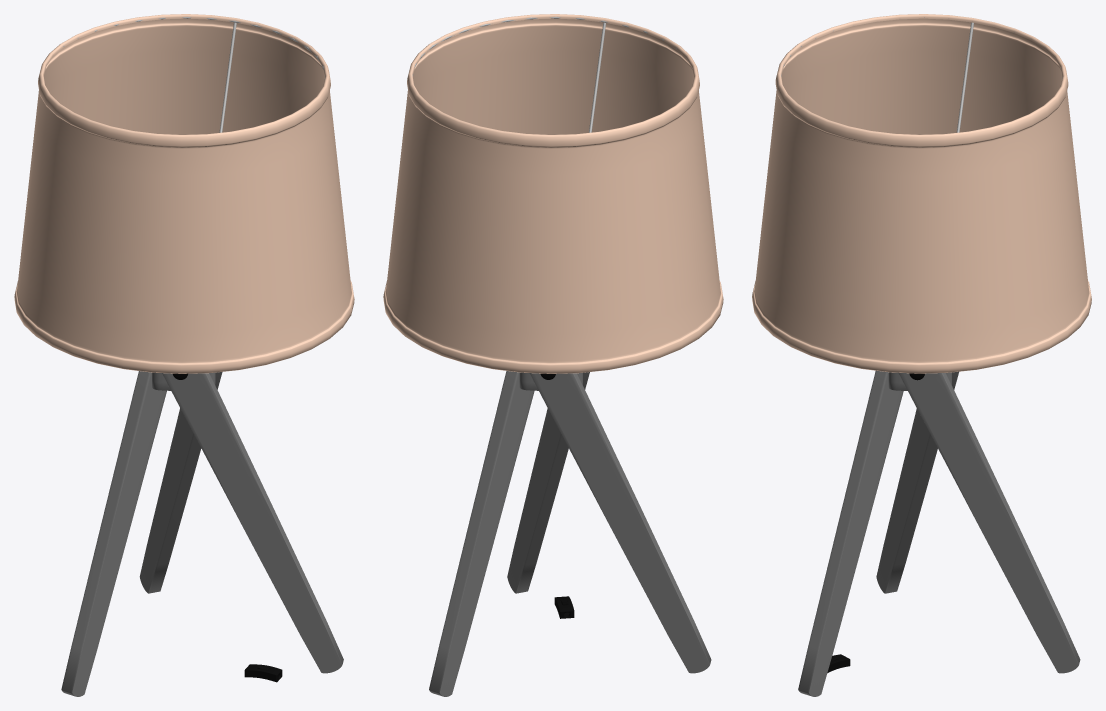
The picture shows the model from 3 angles, left to right: view 1: azimuth 30°, elevation 25°; view 2: azimuth 150°, elevation 25°; view 3: azimuth 270°, elevation 25°; orthographic projection.
Parts seen in each view (by area): view 1: Cylinder001, Rectangle003, Rectangle002, Rectangle001, Star001; view 2: Cylinder001, Rectangle002, Rectangle001, Rectangle003, Star001; view 3: Cylinder001, Rectangle001, Rectangle003, Rectangle002.
Boxes of the visible parts, <box> form: Cylinder001: <box>14,14,354,373</box>; Rectangle003: <box>162,373,343,673</box>; Rectangle002: <box>61,371,166,696</box>; Rectangle001: <box>139,372,222,593</box>; Star001: <box>63,17,325,132</box>; Cylinder001: <box>383,14,723,373</box>; Rectangle002: <box>529,373,711,673</box>; Rectangle001: <box>429,371,534,696</box>; Rectangle003: <box>507,372,589,593</box>; Star001: <box>412,16,692,132</box>; Cylinder001: <box>752,14,1091,373</box>; Rectangle001: <box>898,373,1080,673</box>; Rectangle003: <box>798,370,903,696</box>; Rectangle002: <box>876,371,958,593</box>.
Bounding box in the file's own units: 379 × 710 × 379.
